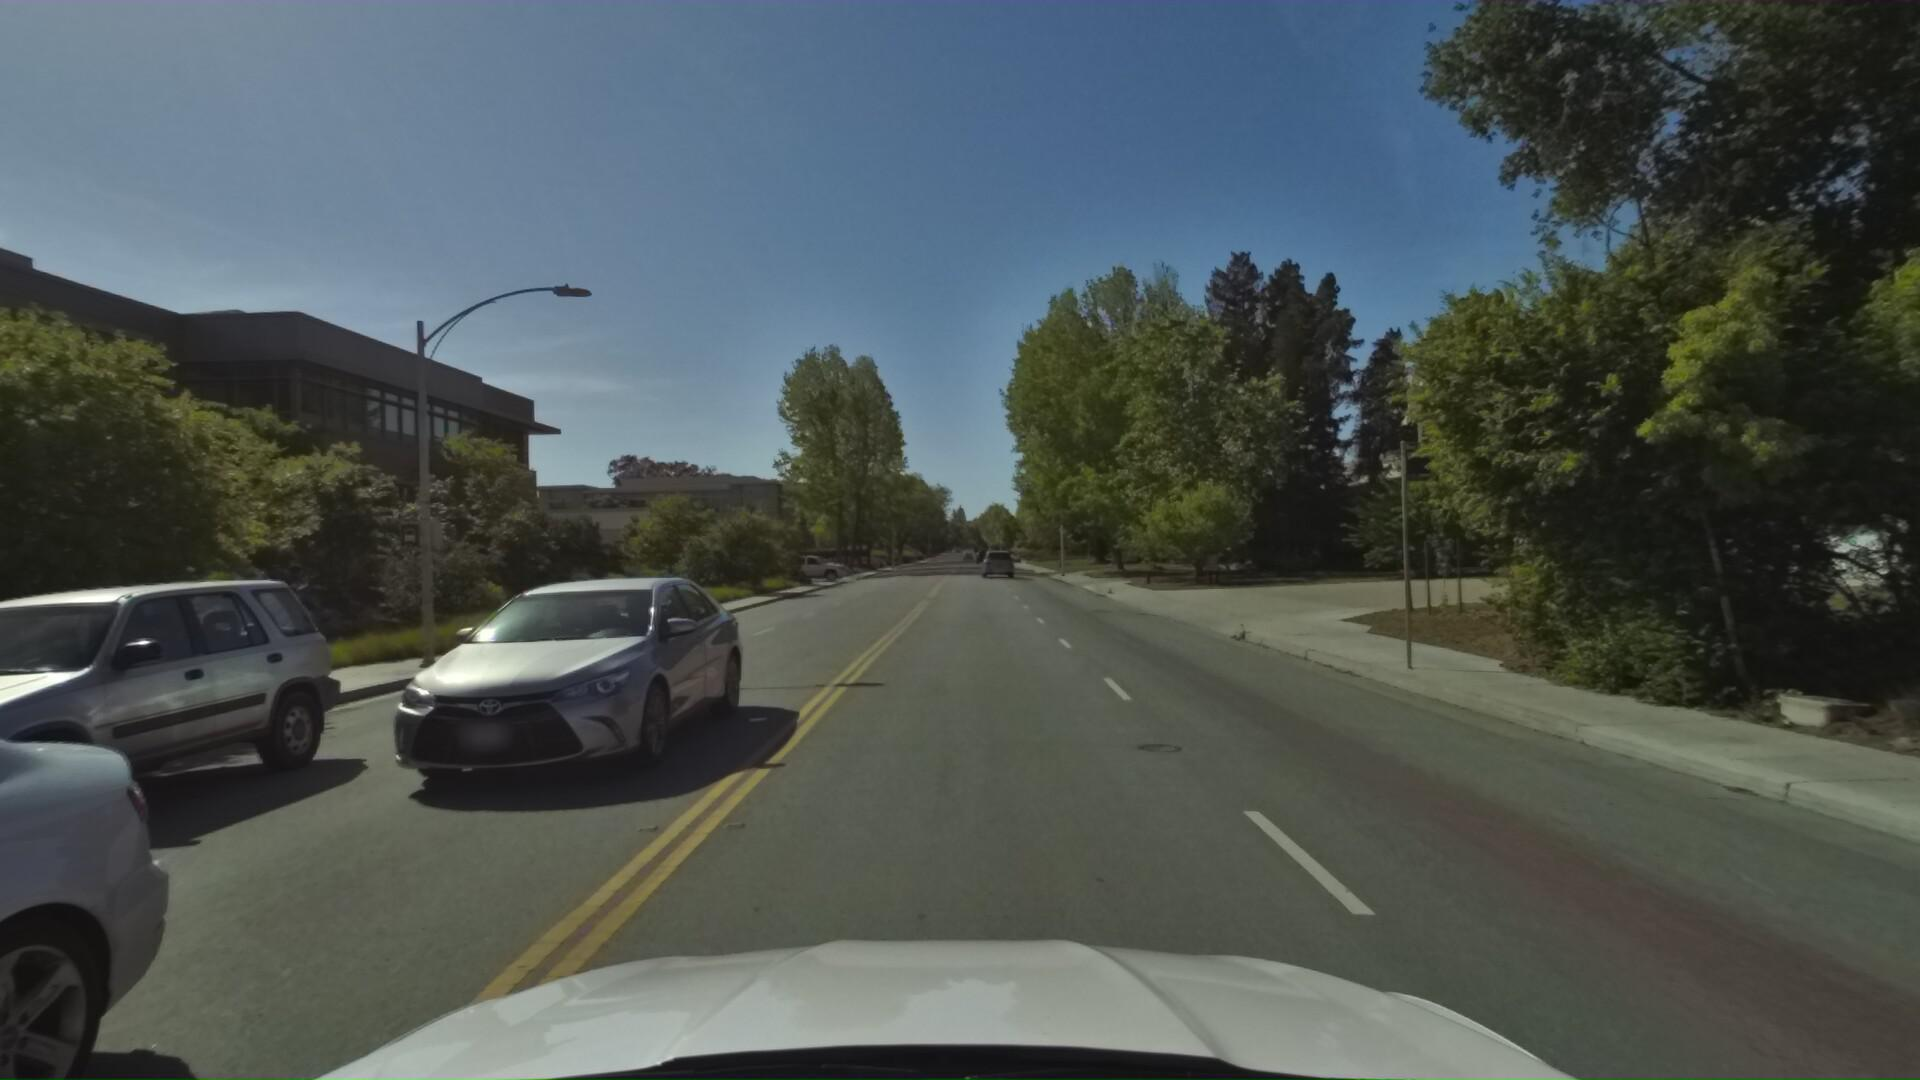car: (0, 566, 345, 942), (320, 574, 758, 837), (779, 554, 849, 585), (978, 550, 1011, 579)
